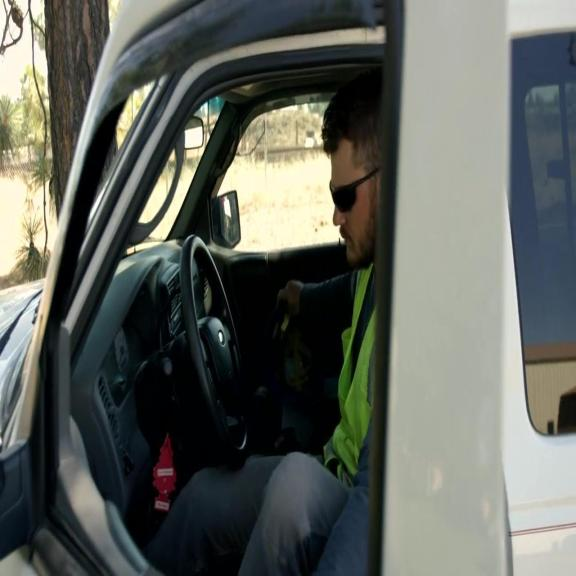safety_vest: (319, 260, 377, 486)
